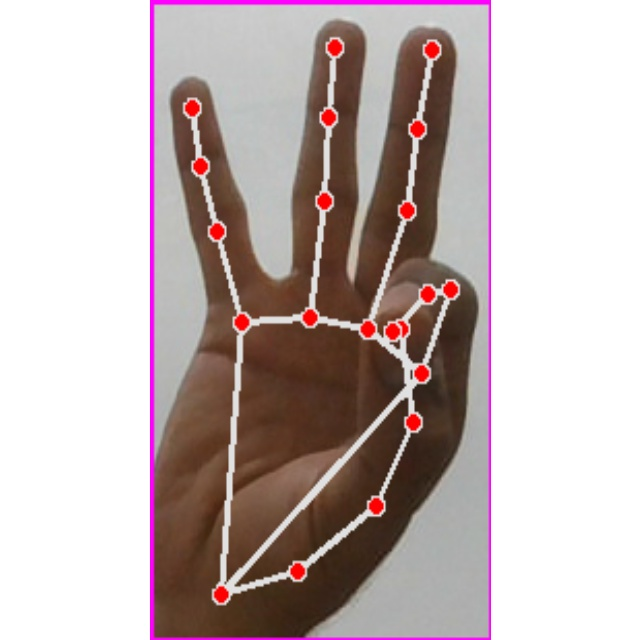F: (150, 0, 491, 640)
